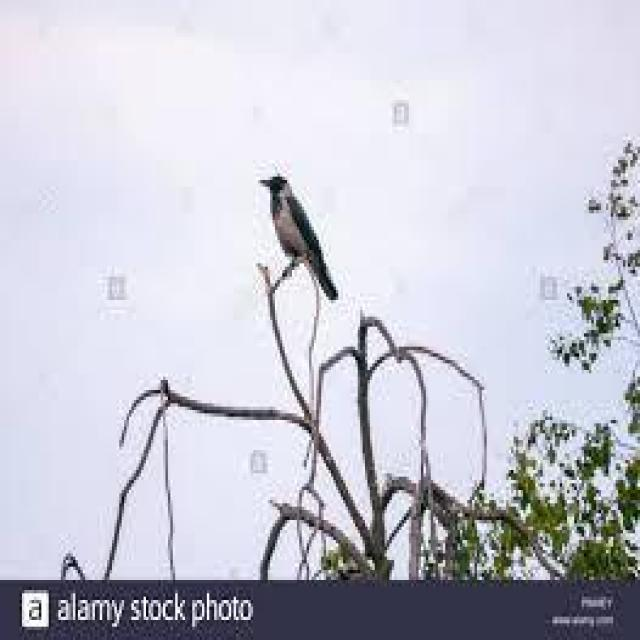bird: (256, 172, 341, 305)
